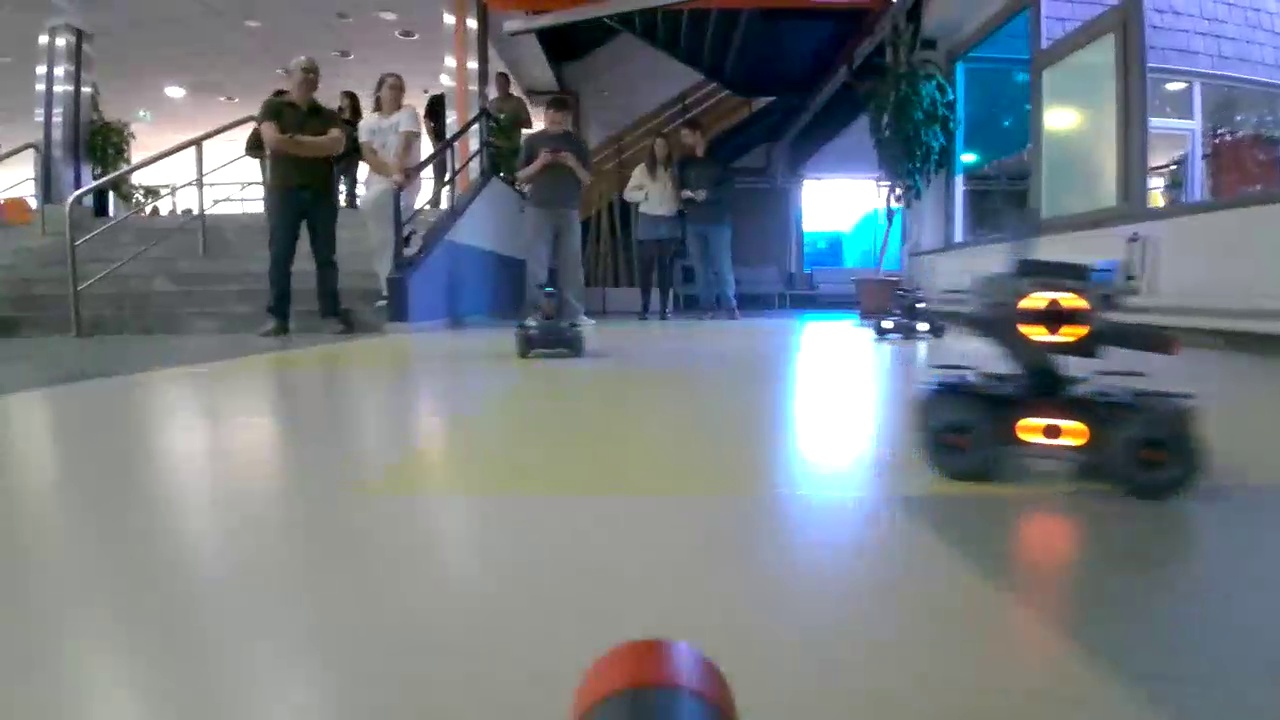robot: (932, 258, 1196, 490), (508, 286, 586, 362), (868, 290, 928, 342)
